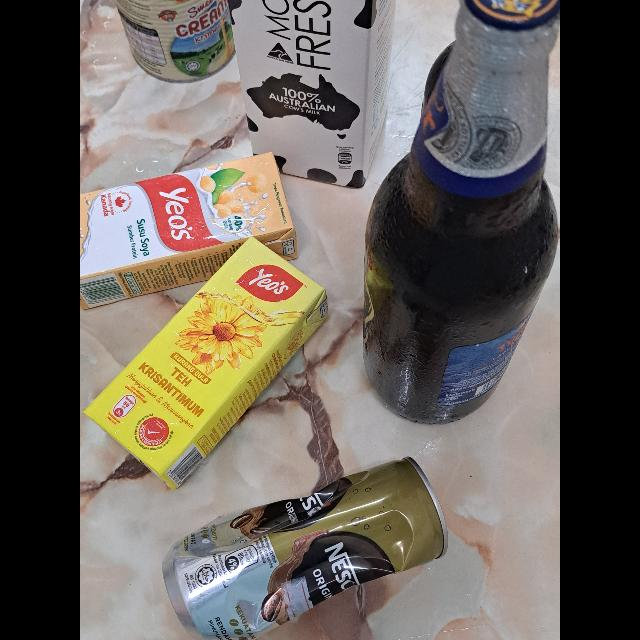caixinha: (80, 234, 330, 492), (80, 154, 298, 312), (237, 0, 387, 190)
garrafa de vidro: (364, 1, 560, 426)
lata: (166, 454, 452, 640), (114, 0, 238, 80)
